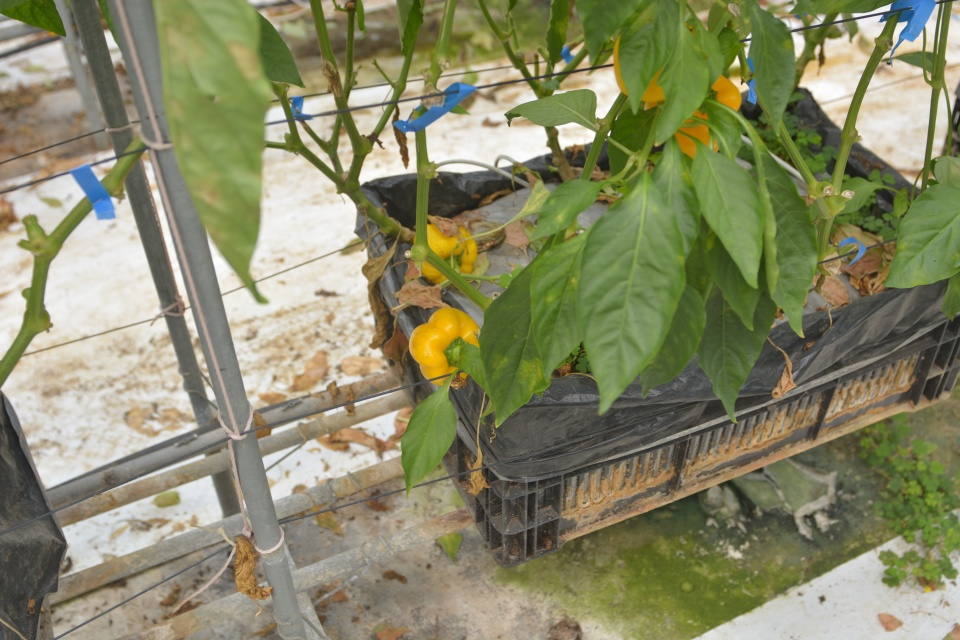fruit: (611, 20, 697, 103), (671, 71, 743, 162), (407, 304, 482, 391), (411, 219, 479, 288)
pedicle: (442, 336, 469, 369), (444, 255, 462, 267)
